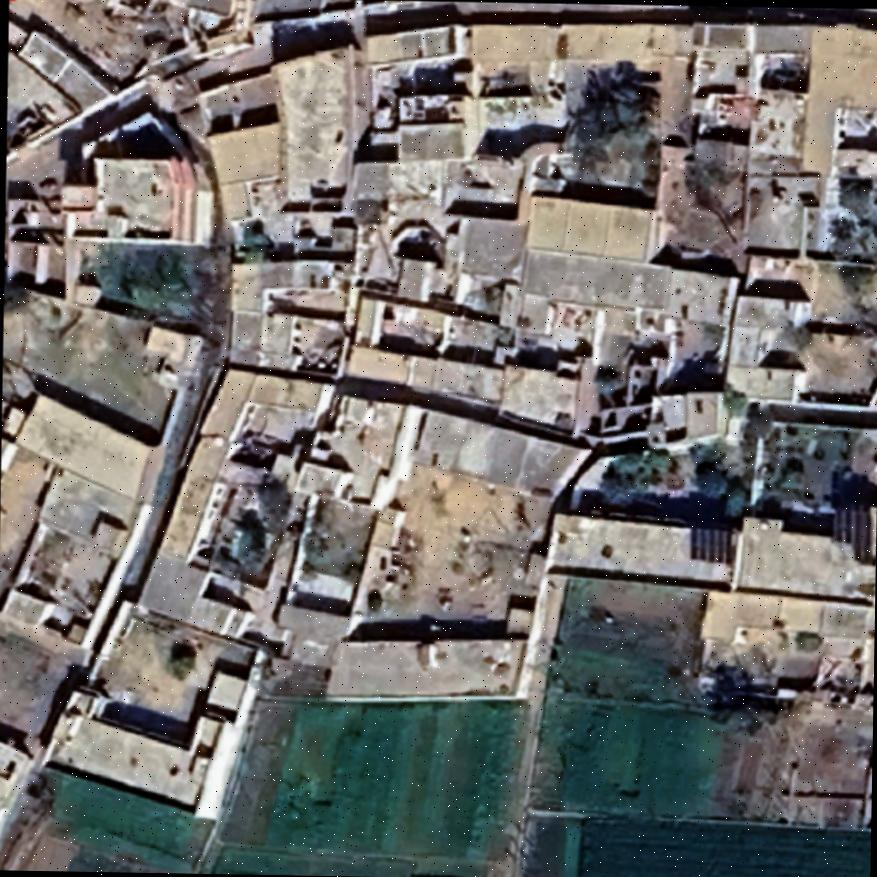Solarpanel: (828, 496, 876, 564), (684, 519, 740, 567)
